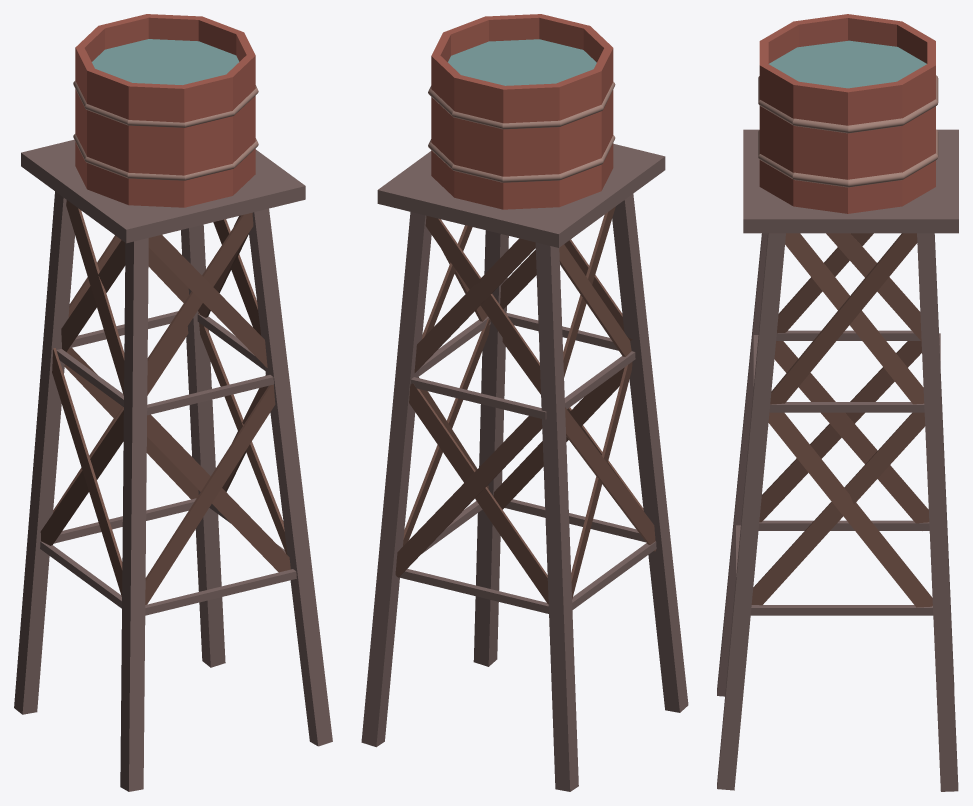
File: west_tower.fbx
3 views of the same model, side by side, from view 1: azimuth 30°, elevation 25°; view 2: azimuth 150°, elevation 25°; view 3: azimuth 270°, elevation 25° (orthographic). The views are drawn at different scales.
Visible parts, largest first — view 1: pCube31; view 2: pCube31; view 3: pCube31.
Boxes of the visible parts, box(x1,y1,x2,y2) form: pCube31: box(14, 14, 332, 791); pCube31: box(361, 14, 688, 791); pCube31: box(717, 14, 958, 791).
Size of the model in its own units: 2.04 by 6.37 by 2.03.
